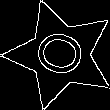O_E: (28, 27, 93, 83)
